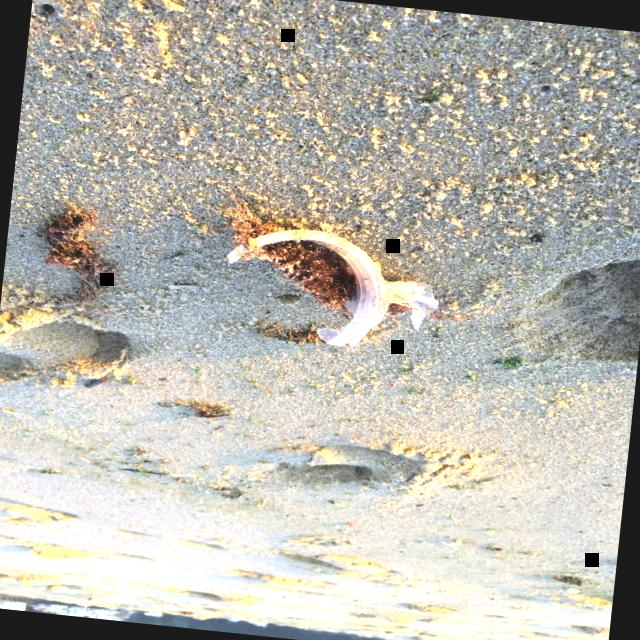Other plastic bottle: (227, 229, 438, 347)
